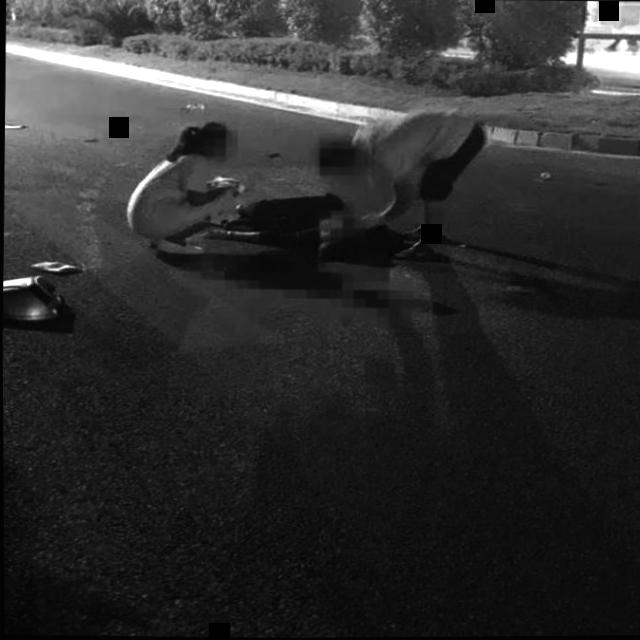Fall-Detected: (197, 181, 415, 271)
